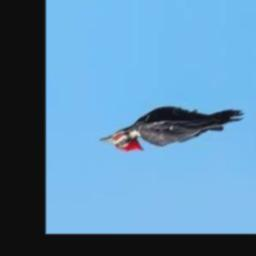Woodpecker: (101, 106, 245, 153)
